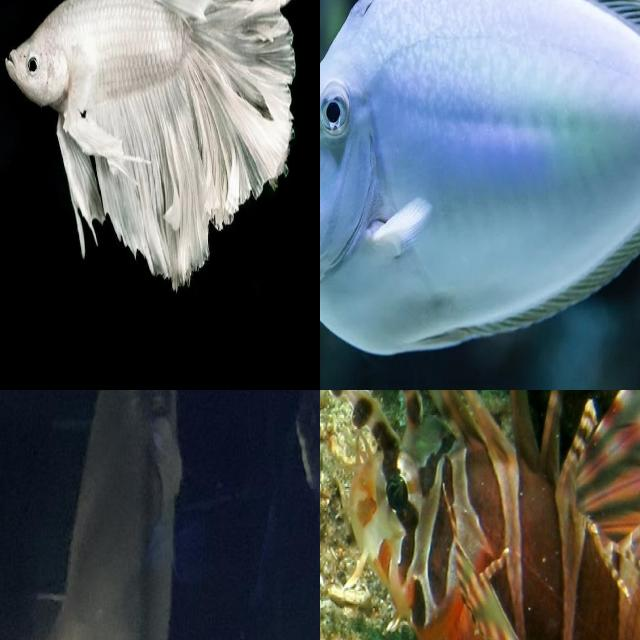fish: (0, 0, 320, 390), (320, 390, 640, 640), (320, 0, 535, 370), (21, 390, 179, 640)
